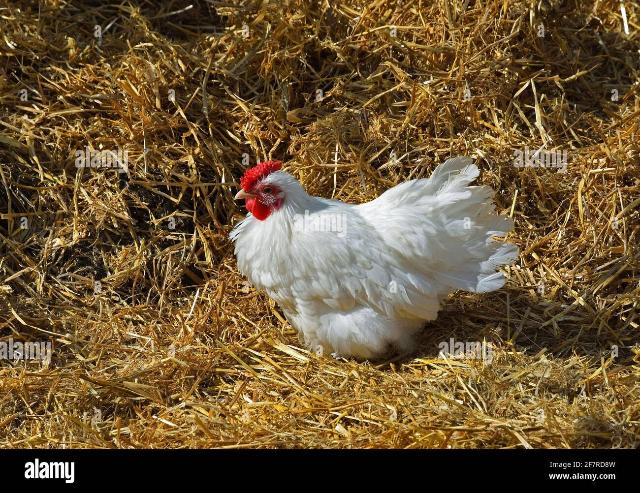Chicken: (228, 157, 521, 362)
